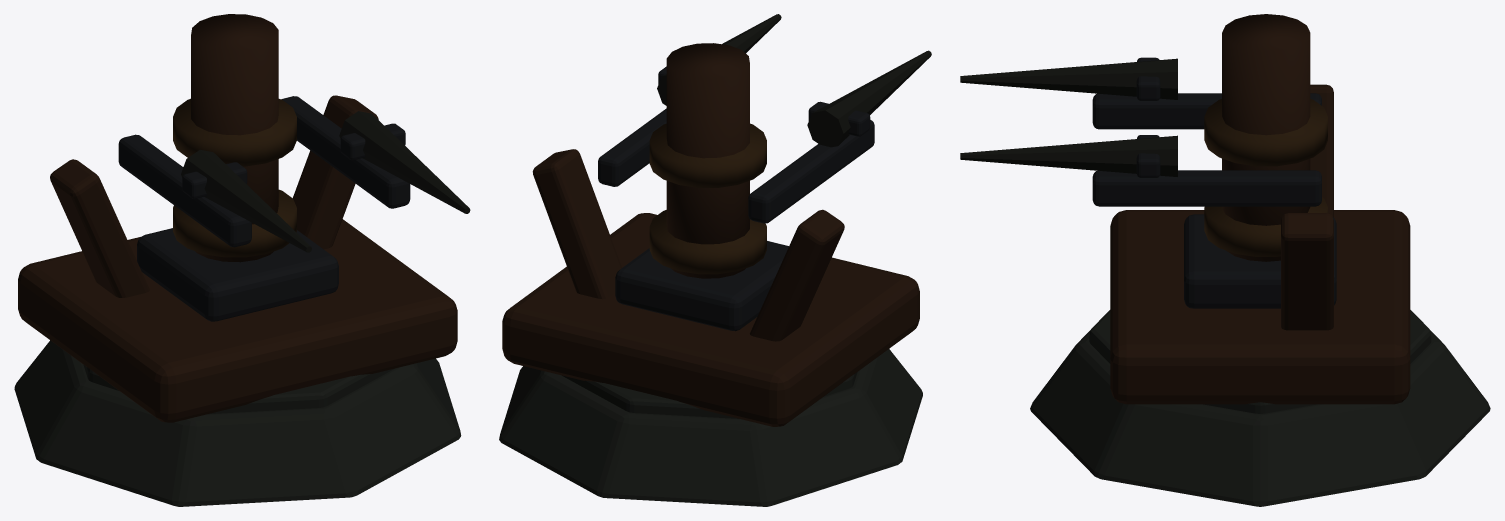
Rendered from TowerAir0.obj.
The picture shows the model from 3 angles, left to right: view 1: azimuth 30°, elevation 25°; view 2: azimuth 150°, elevation 25°; view 3: azimuth 270°, elevation 25°; orthographic projection. The views are drawn at different scales.
Parts seen in each view (by area): view 1: oak_sky_platform, cut_stone_socket_lower_course, oak_launch_mast, iron_mast_socket, oak_angled_stay, iron_sky_rail, oak_angled_stay.001, bronze_guide_collar.001, iron_sky_rail.001, sky_lance.001, sky_lance, bronze_guide_collar (+3 smaller); view 2: oak_sky_platform, cut_stone_socket_lower_course, oak_launch_mast, iron_mast_socket, oak_angled_stay.001, oak_angled_stay, iron_sky_rail, bronze_guide_collar.001, bronze_guide_collar, sky_lance, cut_stone_socket_upper_course, iron_sky_rail.001 (+2 smaller); view 3: oak_sky_platform, cut_stone_socket_lower_course, oak_launch_mast, iron_sky_rail.001, iron_mast_socket, oak_angled_stay.001, sky_lance, sky_lance.001, bronze_guide_collar.001, iron_sky_rail, bronze_guide_collar, cut_stone_socket_upper_course (+3 smaller).
Part boxes in pixels (box(x1,y1,x2,y2)): oak_sky_platform: box(18, 219, 457, 422); cut_stone_socket_lower_course: box(14, 340, 461, 506); oak_launch_mast: box(191, 14, 278, 262); iron_mast_socket: box(137, 228, 338, 321); oak_angled_stay: box(50, 159, 149, 297); iron_sky_rail: box(118, 134, 251, 247); oak_angled_stay.001: box(293, 95, 378, 249); bronze_guide_collar.001: box(173, 98, 296, 166); iron_sky_rail.001: box(281, 96, 410, 208); sky_lance.001: box(339, 111, 470, 213); sky_lance: box(181, 149, 311, 252); bronze_guide_collar: box(173, 189, 296, 257); oak_sky_platform: box(502, 213, 919, 426); cut_stone_socket_lower_course: box(499, 349, 922, 506); oak_launch_mast: box(666, 43, 749, 278); iron_mast_socket: box(615, 241, 788, 331); oak_angled_stay.001: box(532, 149, 621, 299); oak_angled_stay: box(750, 209, 844, 341); iron_sky_rail: box(748, 120, 874, 223); bronze_guide_collar.001: box(649, 123, 766, 187); bronze_guide_collar: box(649, 210, 766, 274); sky_lance: box(807, 50, 931, 147); cut_stone_socket_upper_course: box(562, 372, 857, 418); iron_sky_rail.001: box(598, 108, 666, 186); oak_sky_platform: box(1110, 210, 1410, 404); cut_stone_socket_lower_course: box(1030, 330, 1490, 506); oak_launch_mast: box(1222, 14, 1310, 261); iron_sky_rail.001: box(1092, 170, 1321, 206); iron_mast_socket: box(1184, 214, 1336, 308); oak_angled_stay.001: box(1281, 213, 1333, 330); sky_lance: box(960, 58, 1177, 99); sky_lance.001: box(960, 135, 1177, 176); bronze_guide_collar.001: box(1204, 99, 1327, 166); iron_sky_rail: box(1092, 93, 1321, 129); bronze_guide_collar: box(1204, 197, 1327, 256); cut_stone_socket_upper_course: box(1089, 310, 1431, 413).
Bounding box in the file's own units: 1.57 × 1.42 × 1.8.
